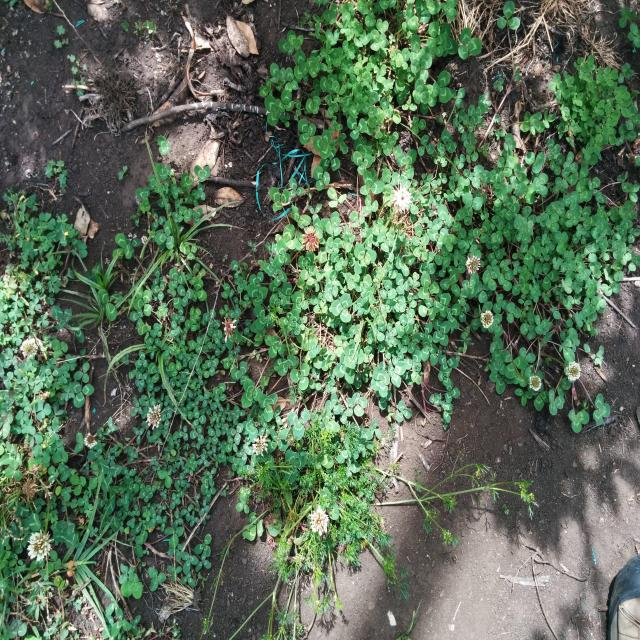Four Leaf Clover: (371, 367, 390, 398), (326, 237, 342, 254)
